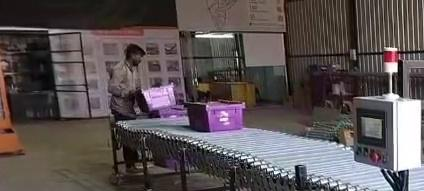box: (187, 102, 244, 131), (142, 84, 176, 109)
